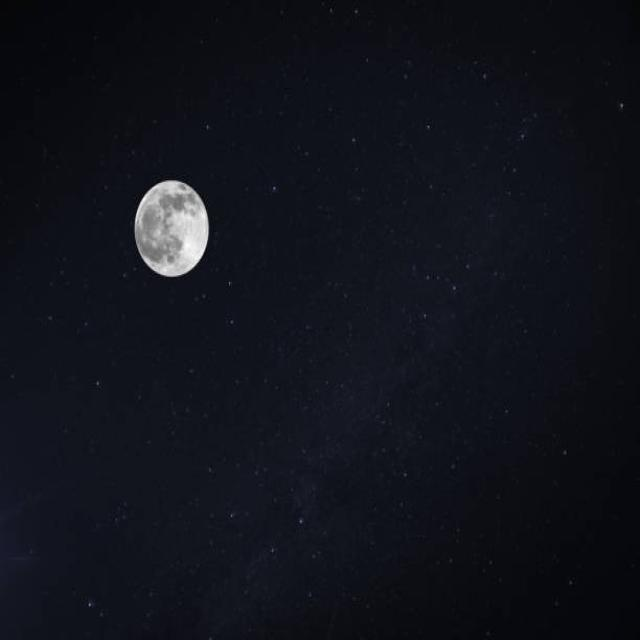moon: (126, 172, 212, 282)
